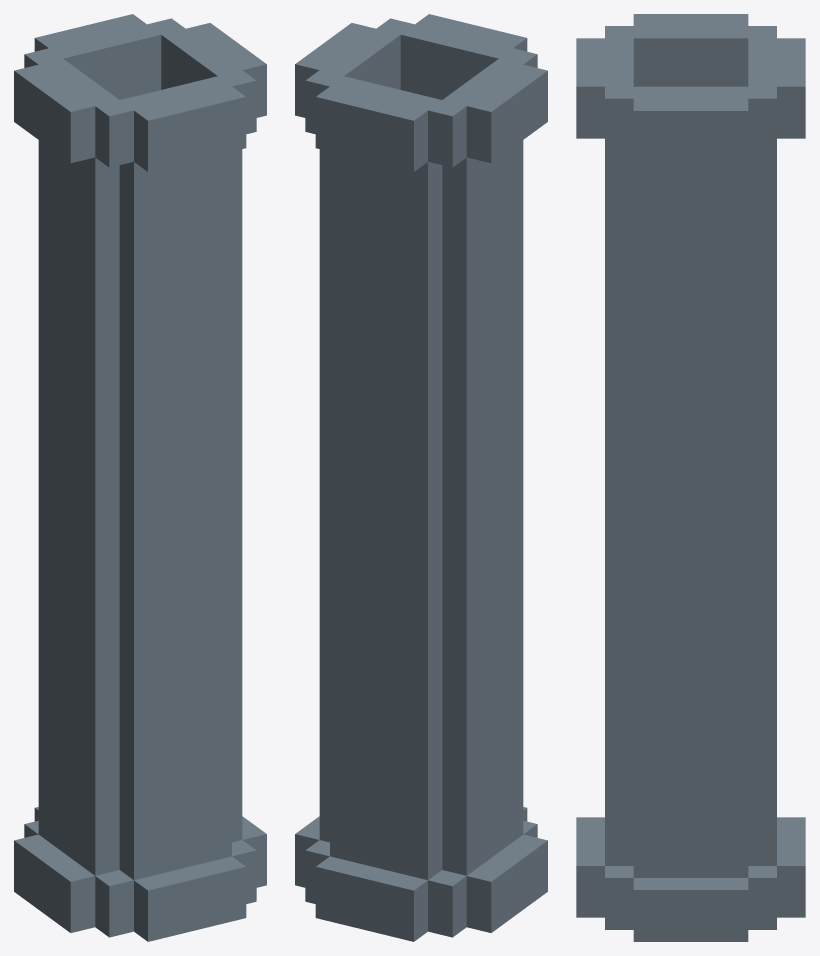
The model's file is pipe.obj.
The picture shows the model from 3 angles, left to right: view 1: azimuth 30°, elevation 25°; view 2: azimuth 150°, elevation 25°; view 3: azimuth 270°, elevation 25°; orthographic projection.
Size of the model in its own units: 0.8 by 3.2 by 0.8.
Materials: 1 (1 with a texture image).
